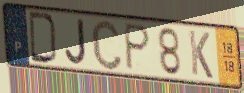8: (156, 26, 182, 77)
C: (90, 18, 124, 72)
D: (27, 9, 60, 66)
J: (64, 18, 88, 67)
K: (187, 28, 215, 81)
P: (124, 22, 153, 72)
